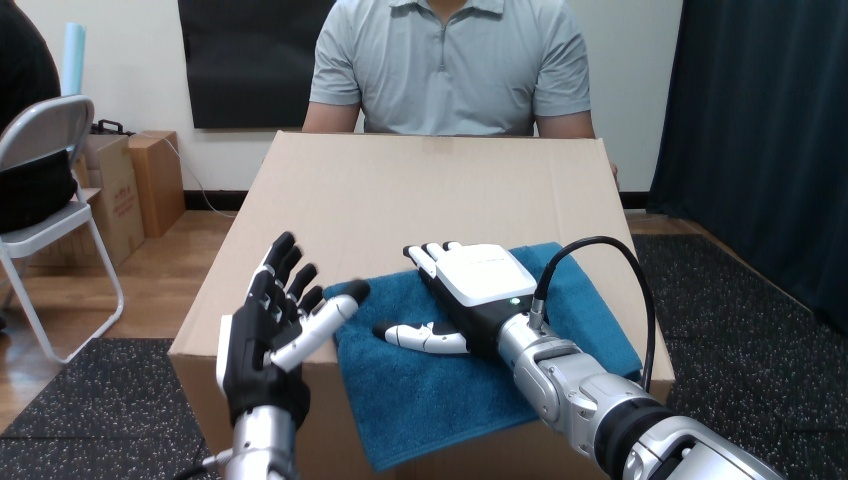left robot hand: (374, 236, 780, 479), (175, 231, 369, 479), (216, 232, 369, 479), (544, 243, 647, 384)
